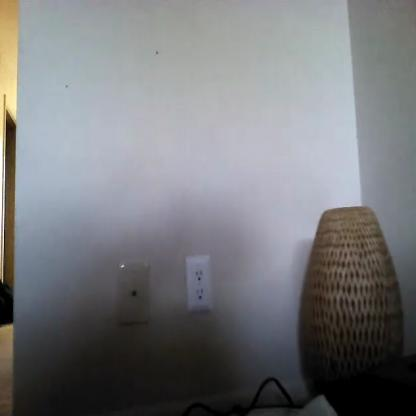OUTLET: (184, 254, 212, 312)
